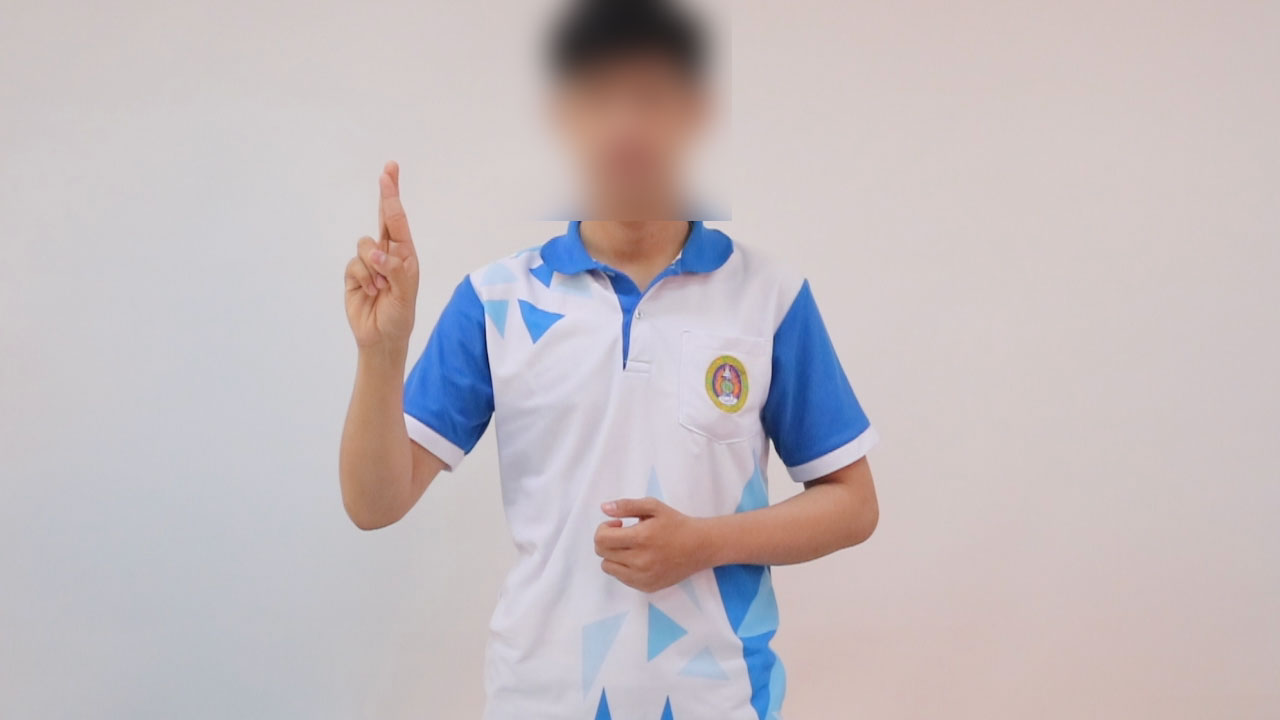rao: (320, 153, 440, 357)
